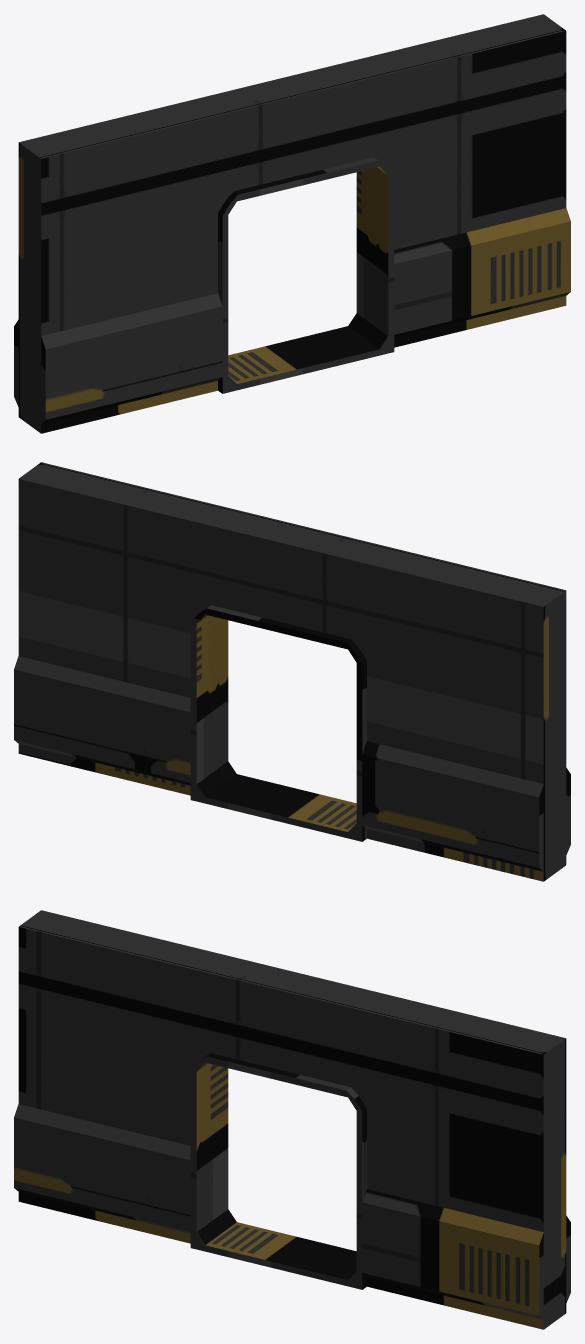
The model's file is DoorsWall.fbx.
3 renders of one model, top to bottom at view 1: azimuth 30°, elevation 25°; view 2: azimuth 150°, elevation 25°; view 3: azimuth 330°, elevation 25°, orthographic.
Visible parts, largest first — view 1: Doors Low Poly; view 2: Doors Low Poly; view 3: Doors Low Poly.
Part boxes in pixels (x1=…): Doors Low Poly: x1=14, y1=14, x2=570, y2=433; Doors Low Poly: x1=14, y1=462, x2=570, y2=881; Doors Low Poly: x1=14, y1=910, x2=570, y2=1329.
Size of the model in its own units: 400 by 200 by 41.87.
Materials: 1 (1 with a texture image).
